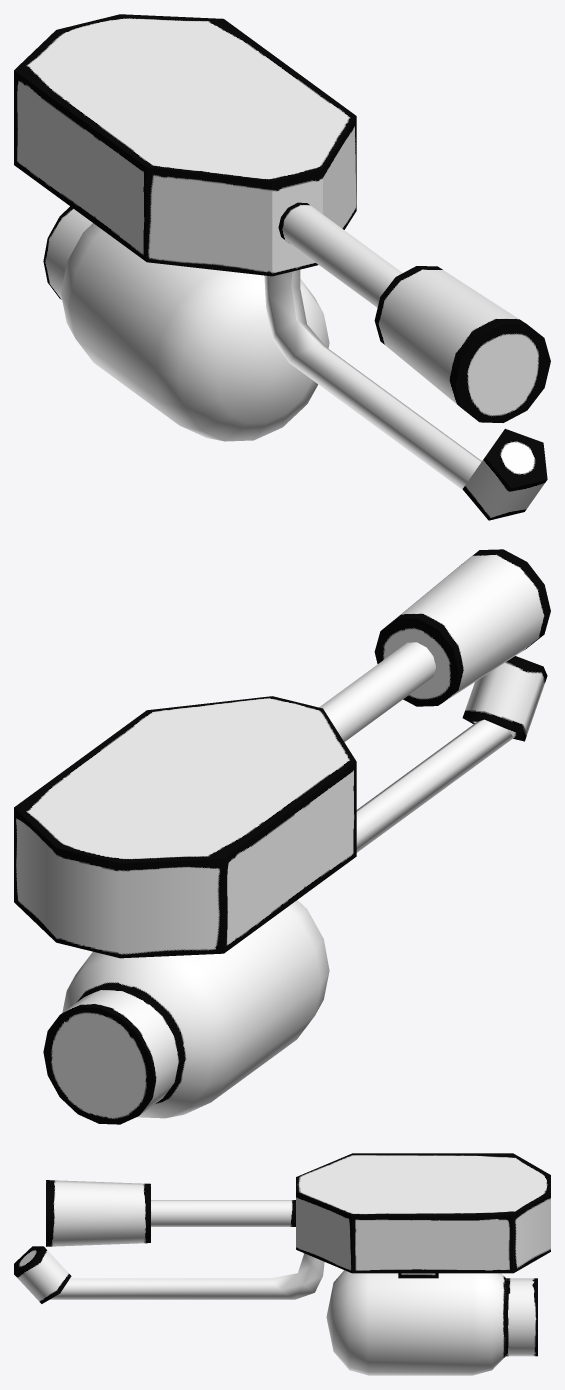
Rendered from FlamethrowerTurret.fbx.
The picture shows the model from 3 angles, top to bottom: view 1: azimuth 30°, elevation 25°; view 2: azimuth 150°, elevation 25°; view 3: azimuth 270°, elevation 25°; orthographic projection. The views are drawn at different scales.
Visible parts, largest first — view 1: Flamethrower; view 2: Flamethrower; view 3: Flamethrower.
Boxes of the visible parts, <box> form: Flamethrower: <box>14,14,550,520</box>; Flamethrower: <box>14,549,550,1124</box>; Flamethrower: <box>14,1153,550,1375</box>.
Size of the model in its own units: 0.3043 by 0.4257 by 1.11.
Materials: 1 (1 with a texture image).
